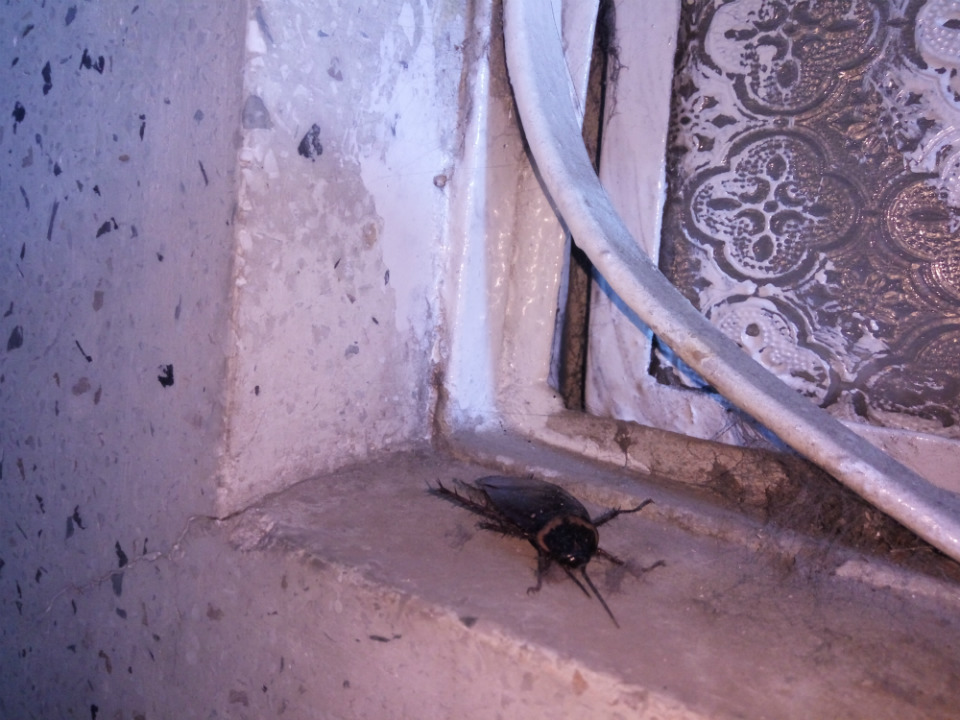cockroach: (353, 354, 670, 636)
